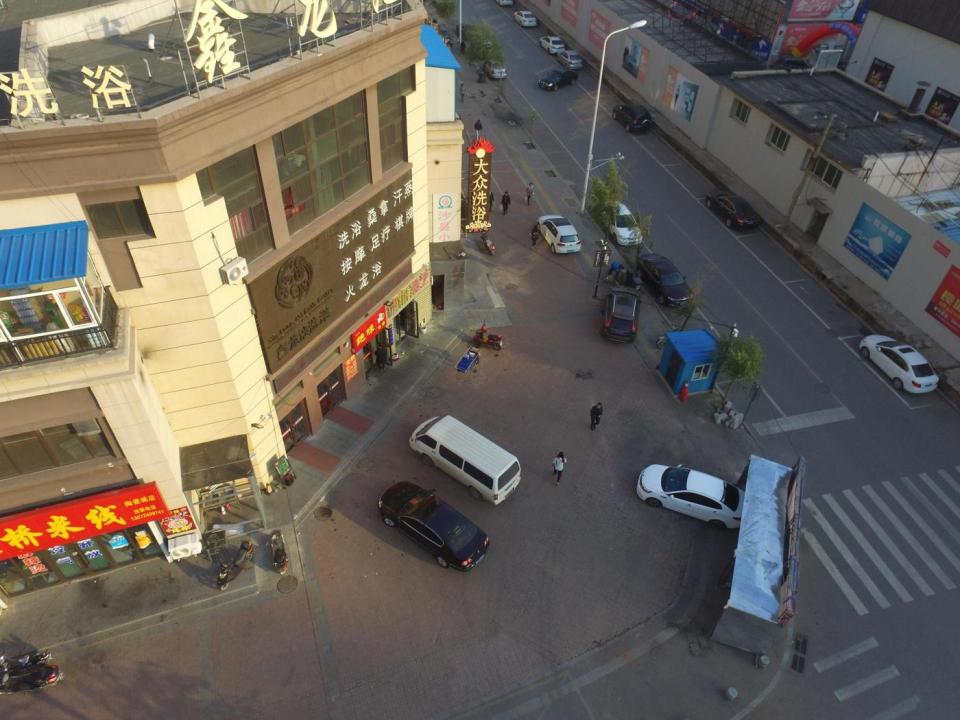car: (377, 480, 490, 573), (635, 462, 753, 531), (858, 333, 940, 396), (635, 252, 693, 309), (599, 284, 642, 343), (705, 190, 761, 231), (597, 198, 643, 247), (535, 214, 581, 255), (612, 102, 652, 134), (538, 66, 578, 92), (482, 56, 508, 80), (539, 33, 566, 55), (557, 49, 583, 70), (511, 8, 537, 28)
van: (408, 413, 523, 507)
